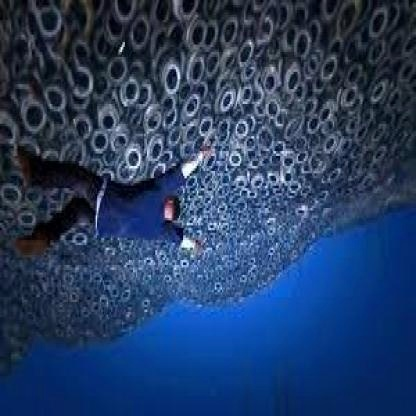tire: (154, 62, 197, 116), (43, 72, 79, 124), (280, 52, 307, 106), (16, 92, 52, 131), (97, 99, 125, 146), (214, 64, 238, 114)
